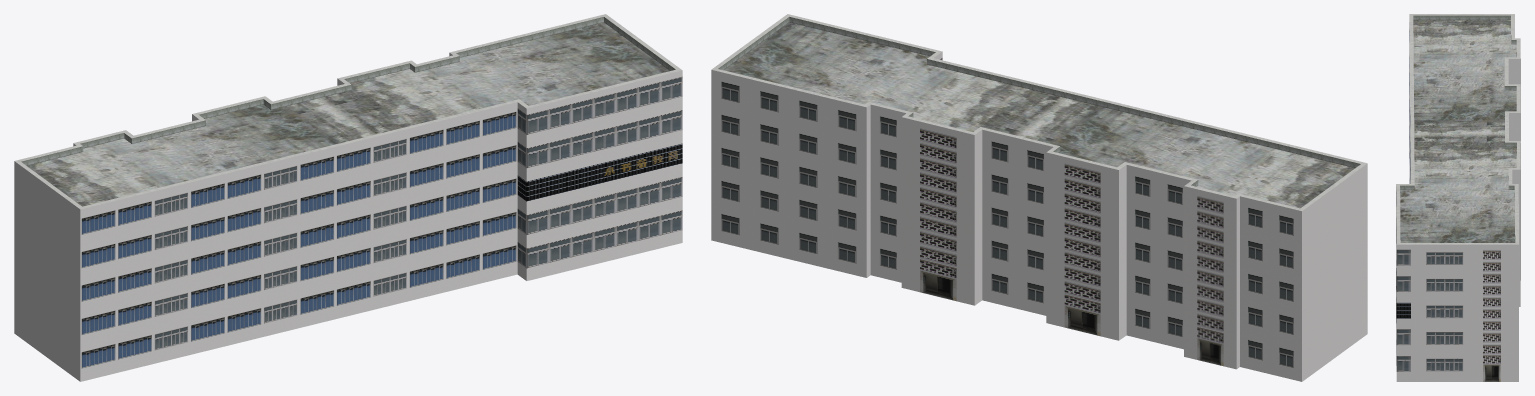
3 renders of one model, left to right at view 1: azimuth 30°, elevation 25°; view 2: azimuth 150°, elevation 25°; view 3: azimuth 270°, elevation 25°, orthographic. The views are drawn at different scales.
Visible parts, largest first — view 1: jz23; view 2: jz23; view 3: jz23.
Boxes of the visible parts, <box> form: jz23: <box>14,14,682,381</box>; jz23: <box>711,14,1367,381</box>; jz23: <box>1396,14,1520,381</box>.
Size of the model in its own units: 5590 by 1550 by 1277.
13 materials, 13 textured.
